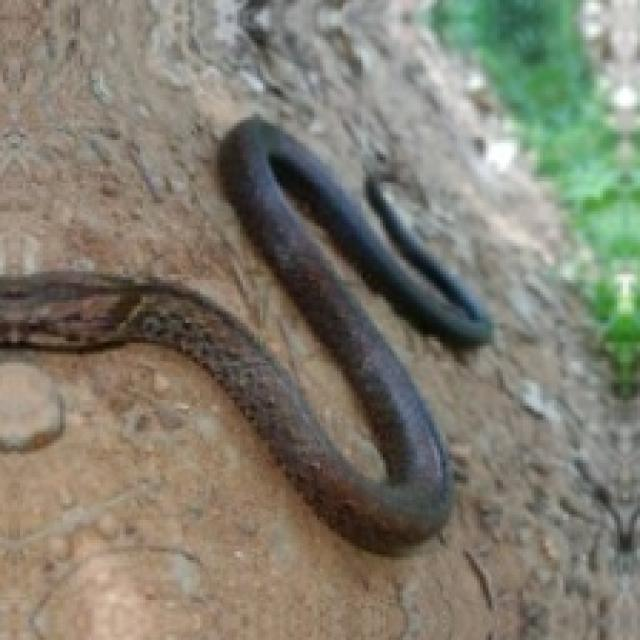reinhardts lined snake: (0, 117, 449, 551), (369, 180, 489, 340)
